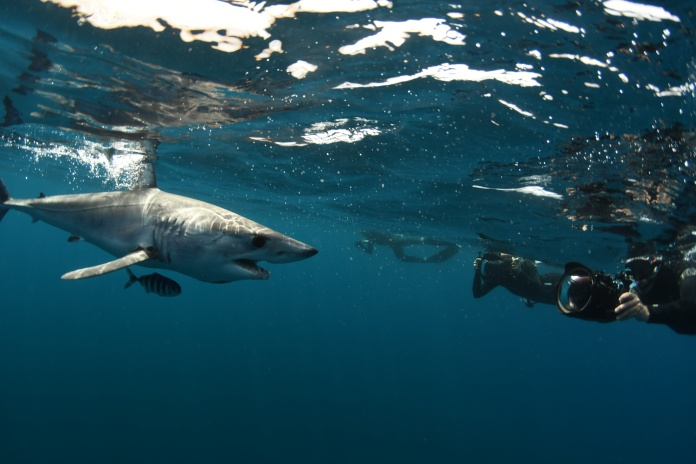Mako: (1, 152, 324, 312)
